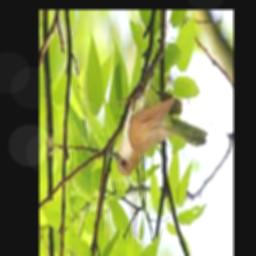Cuckoo: (109, 92, 207, 176)
